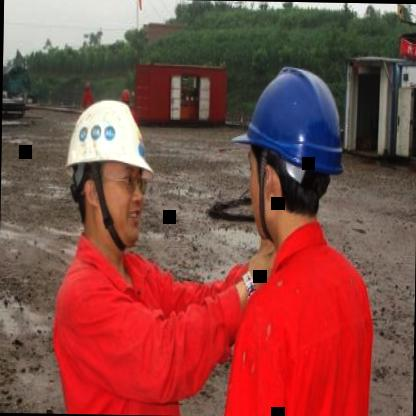helmet: (224, 46, 360, 242), (56, 78, 164, 252)
